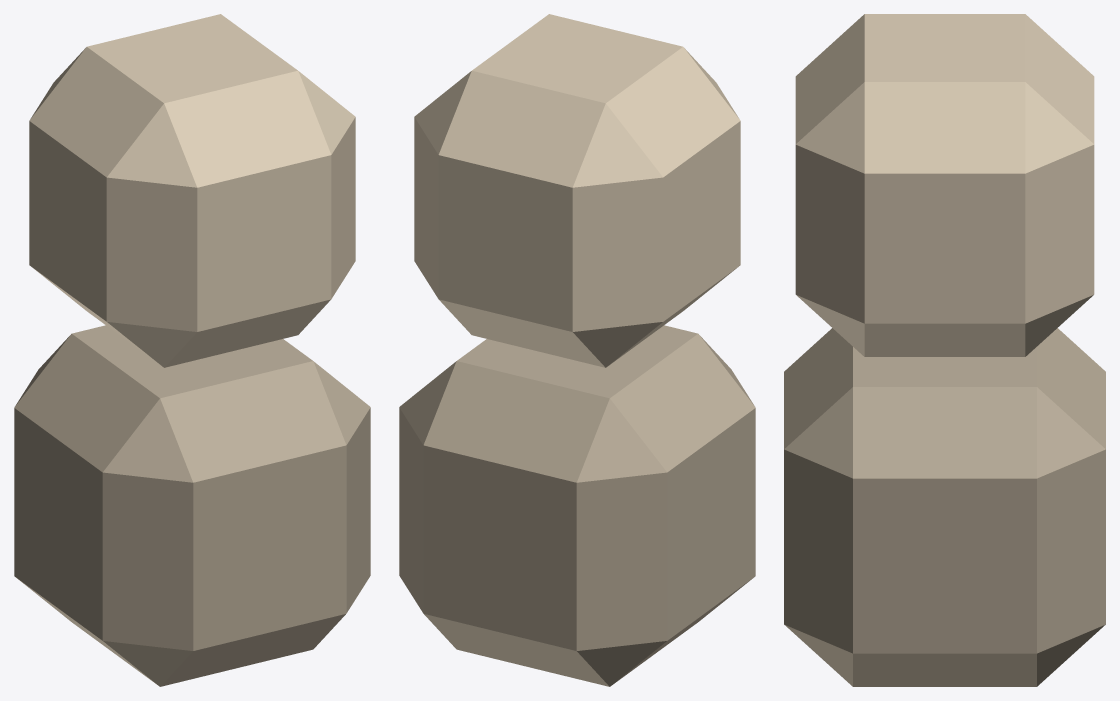
The model's file is foundation_skirt_corner.glb.
3 views of the same model, side by side, from view 1: azimuth 30°, elevation 25°; view 2: azimuth 150°, elevation 25°; view 3: azimuth 270°, elevation 25° (orthographic). The views are drawn at different scales.
Visible parts, largest first — view 1: foundation_skirt_corner; view 2: foundation_skirt_corner; view 3: foundation_skirt_corner.
Part boxes in pixels (x1,y1,x2,y2): foundation_skirt_corner: (14,14,370,686); foundation_skirt_corner: (399,14,755,686); foundation_skirt_corner: (784,14,1105,686).
Size of the model in its own units: 0.14 by 0.288 by 0.14.
